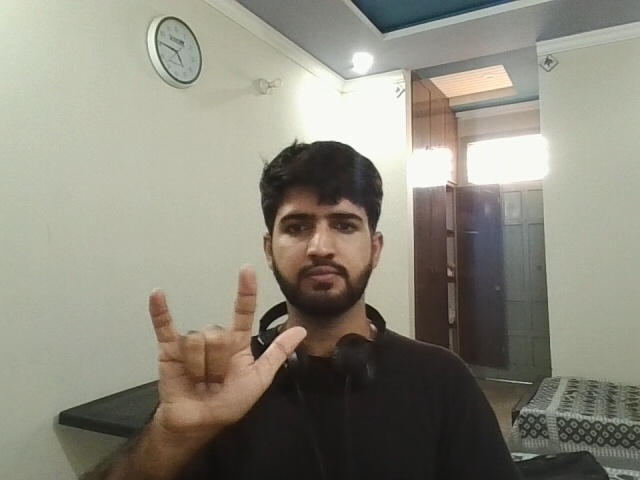I Love You: (134, 267, 304, 433)
